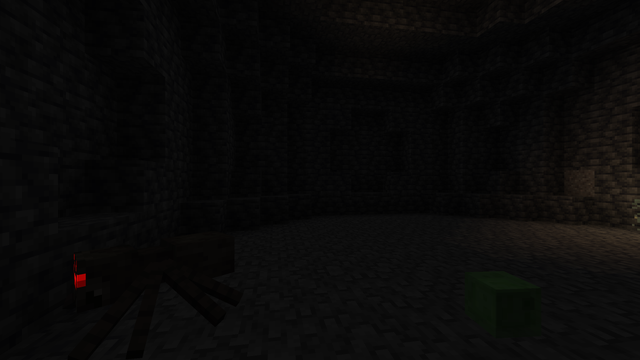araignees: (32, 226, 221, 355)
slimes: (462, 268, 542, 340)
